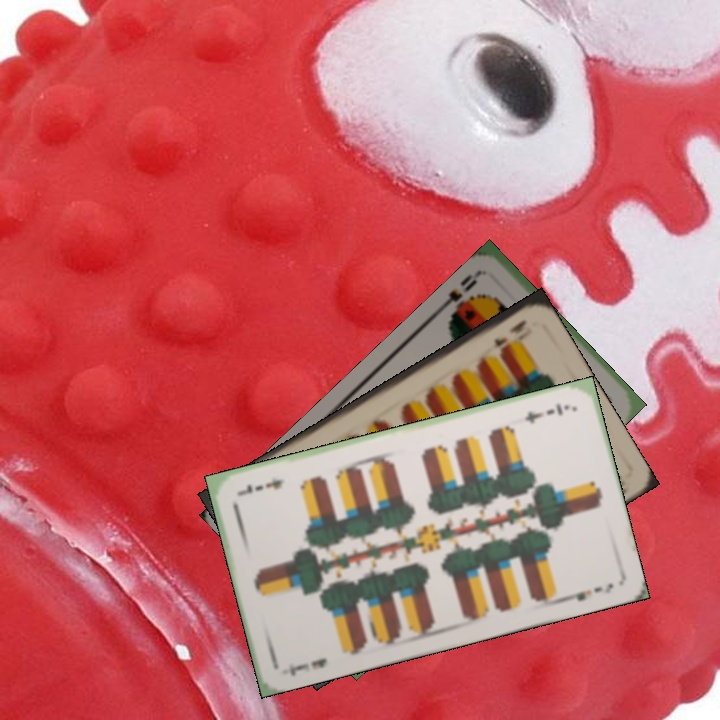E10: (489, 315, 530, 352)
E7: (520, 399, 572, 426), (284, 653, 329, 679)
SO: (436, 266, 487, 321)
